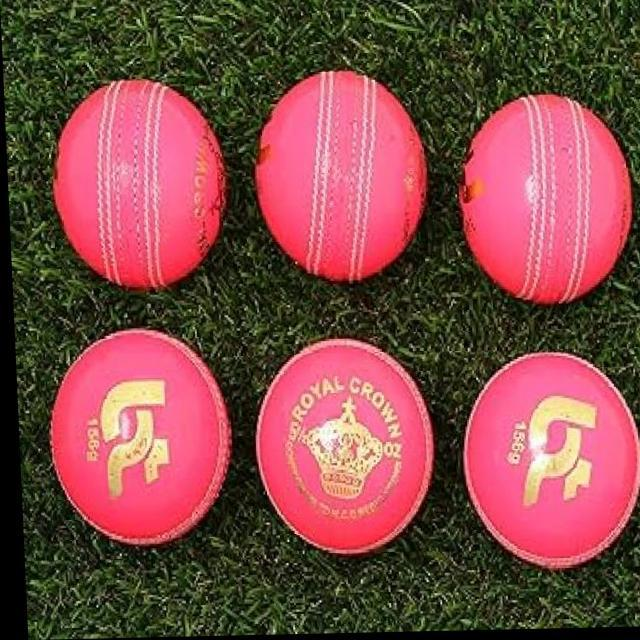cricket ball: (46, 329, 227, 547), (459, 356, 638, 570), (252, 341, 429, 556), (52, 80, 226, 289), (255, 73, 426, 283), (460, 97, 630, 306)
